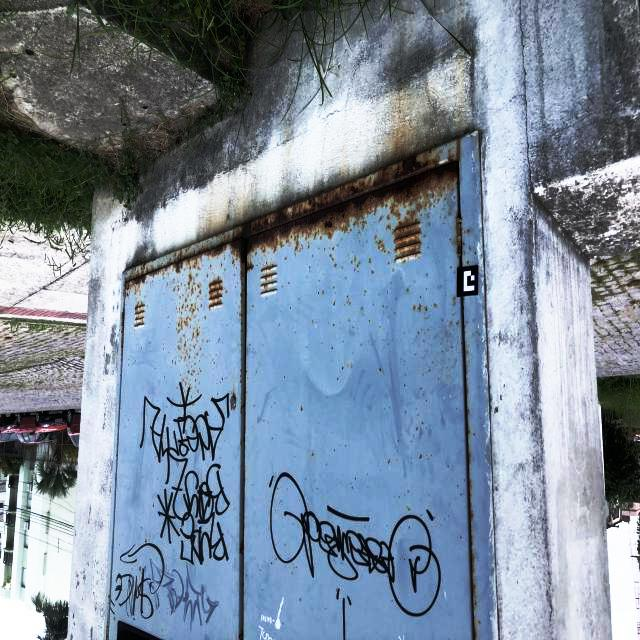Corrosion: (122, 137, 463, 318), (208, 275, 225, 312), (260, 273, 278, 296), (373, 234, 390, 255), (134, 300, 146, 329), (176, 315, 193, 335), (456, 213, 462, 259), (465, 343, 469, 400), (189, 326, 200, 342), (260, 264, 277, 274), (179, 243, 194, 253), (473, 576, 477, 611), (189, 302, 197, 319), (230, 392, 237, 411), (178, 303, 189, 315), (121, 308, 124, 349), (190, 277, 196, 297), (470, 500, 474, 529), (485, 340, 488, 374), (488, 377, 490, 422), (467, 407, 470, 436), (240, 398, 245, 415), (239, 539, 244, 556), (472, 548, 475, 574), (474, 615, 477, 640), (484, 294, 486, 330), (483, 256, 485, 292), (197, 282, 202, 296), (238, 626, 243, 640), (478, 130, 480, 163), (172, 285, 180, 293), (469, 479, 472, 498), (185, 292, 190, 303), (468, 449, 471, 466), (177, 336, 183, 344), (479, 176, 481, 199), (106, 617, 108, 640), (412, 304, 418, 311), (379, 215, 384, 223), (244, 467, 246, 487), (417, 303, 421, 312), (346, 299, 351, 306), (172, 252, 177, 259), (245, 387, 247, 401), (184, 264, 188, 271), (368, 258, 372, 264), (357, 230, 361, 236), (195, 240, 201, 244), (177, 345, 181, 351), (192, 344, 196, 350), (355, 262, 359, 268), (471, 535, 473, 546), (300, 405, 303, 412), (433, 303, 437, 308), (182, 334, 186, 339), (419, 453, 422, 459), (334, 263, 337, 269), (311, 451, 314, 457), (481, 205, 482, 222), (210, 236, 214, 240), (456, 321, 459, 326), (240, 320, 243, 325), (189, 384, 192, 389), (354, 255, 356, 262), (184, 341, 186, 348), (240, 439, 242, 446), (482, 237, 483, 250), (425, 306, 427, 312), (462, 242, 465, 246), (387, 262, 390, 266), (371, 270, 374, 274), (350, 365, 353, 369), (218, 337, 220, 343), (225, 290, 228, 294), (195, 273, 198, 277), (196, 295, 200, 298), (186, 350, 188, 356), (187, 370, 190, 374), (199, 347, 202, 351), (322, 289, 324, 295), (284, 256, 287, 260), (333, 301, 335, 306), (388, 459, 390, 464), (206, 273, 208, 278), (204, 315, 206, 320), (181, 282, 183, 287), (179, 295, 181, 300), (197, 307, 199, 312), (185, 288, 187, 293), (196, 352, 198, 357), (184, 356, 186, 361), (180, 355, 182, 360), (243, 437, 245, 442), (467, 230, 470, 233), (470, 135, 473, 138), (329, 254, 332, 257), (368, 319, 371, 322), (192, 370, 195, 373), (463, 297, 465, 301), (479, 164, 480, 172), (351, 260, 353, 264), (350, 228, 352, 232), (342, 366, 344, 370), (379, 368, 381, 372), (224, 268, 226, 272), (200, 304, 202, 308), (173, 278, 175, 282), (202, 339, 204, 343), (188, 355, 190, 359), (460, 536, 462, 539), (473, 433, 475, 436), (447, 465, 449, 468), (416, 427, 418, 430), (453, 297, 455, 300), (467, 261, 469, 264), (469, 247, 471, 250), (453, 196, 455, 199), (459, 166, 460, 172), (332, 247, 334, 250), (332, 258, 334, 261), (364, 290, 366, 293), (346, 295, 348, 298), (382, 305, 384, 308), (213, 361, 215, 364), (256, 264, 258, 267), (205, 294, 207, 297), (184, 284, 186, 287), (182, 294, 184, 297), (182, 378, 184, 381), (241, 464, 243, 467), (113, 617, 115, 620), (278, 323, 280, 326), (468, 443, 469, 448), (221, 262, 222, 267), (210, 264, 211, 269), (224, 255, 225, 260), (167, 282, 168, 287), (195, 287, 196, 292), (464, 251, 466, 253), (464, 231, 466, 233), (449, 213, 451, 215), (475, 137, 476, 141), (450, 266, 452, 268), (391, 282, 393, 284), (333, 324, 335, 326), (348, 319, 350, 321), (379, 326, 381, 328), (212, 359, 214, 361), (252, 305, 254, 307), (233, 274, 235, 276), (195, 245, 197, 247), (172, 360, 173, 364), (194, 363, 196, 365), (185, 382, 186, 386), (175, 361, 176, 365), (196, 340, 198, 342), (189, 344, 191, 346), (202, 354, 204, 356), (192, 404, 194, 406), (189, 401, 191, 403), (145, 539, 146, 543), (120, 359, 122, 361), (266, 261, 267, 265), (479, 621, 480, 624), (422, 422, 423, 425), (442, 318, 443, 321), (379, 293, 380, 296), (333, 286, 334, 289), (337, 377, 338, 380), (210, 354, 211, 357), (241, 343, 242, 346), (201, 298, 202, 301), (190, 325, 191, 328), (172, 298, 173, 301), (195, 379, 196, 382), (191, 373, 192, 376), (185, 396, 186, 399), (194, 356, 195, 359), (246, 574, 247, 577), (153, 504, 154, 507), (282, 285, 283, 288), (457, 485, 458, 487), (461, 342, 462, 344), (465, 331, 466, 333), (464, 325, 465, 327), (475, 252, 476, 254), (359, 240, 360, 242), (341, 238, 342, 240), (337, 244, 338, 246), (400, 277, 401, 279), (364, 294, 365, 296), (241, 330, 242, 332), (238, 344, 239, 346), (235, 286, 236, 288), (236, 267, 237, 269), (237, 282, 238, 284), (217, 240, 218, 242), (197, 246, 198, 248), (202, 265, 203, 267), (200, 370, 201, 372), (198, 373, 199, 375), (199, 382, 200, 384), (199, 360, 200, 362), (187, 339, 188, 341), (195, 386, 196, 388), (260, 569, 261, 571), (262, 589, 263, 591), (141, 527, 142, 529), (116, 455, 117, 457), (121, 354, 122, 356), (121, 350, 122, 352), (266, 298, 267, 300), (366, 241, 367, 242), (348, 254, 349, 255), (347, 365, 348, 366), (191, 366, 192, 367), (190, 350, 191, 351), (115, 478, 116, 479), (247, 293, 247, 295)
